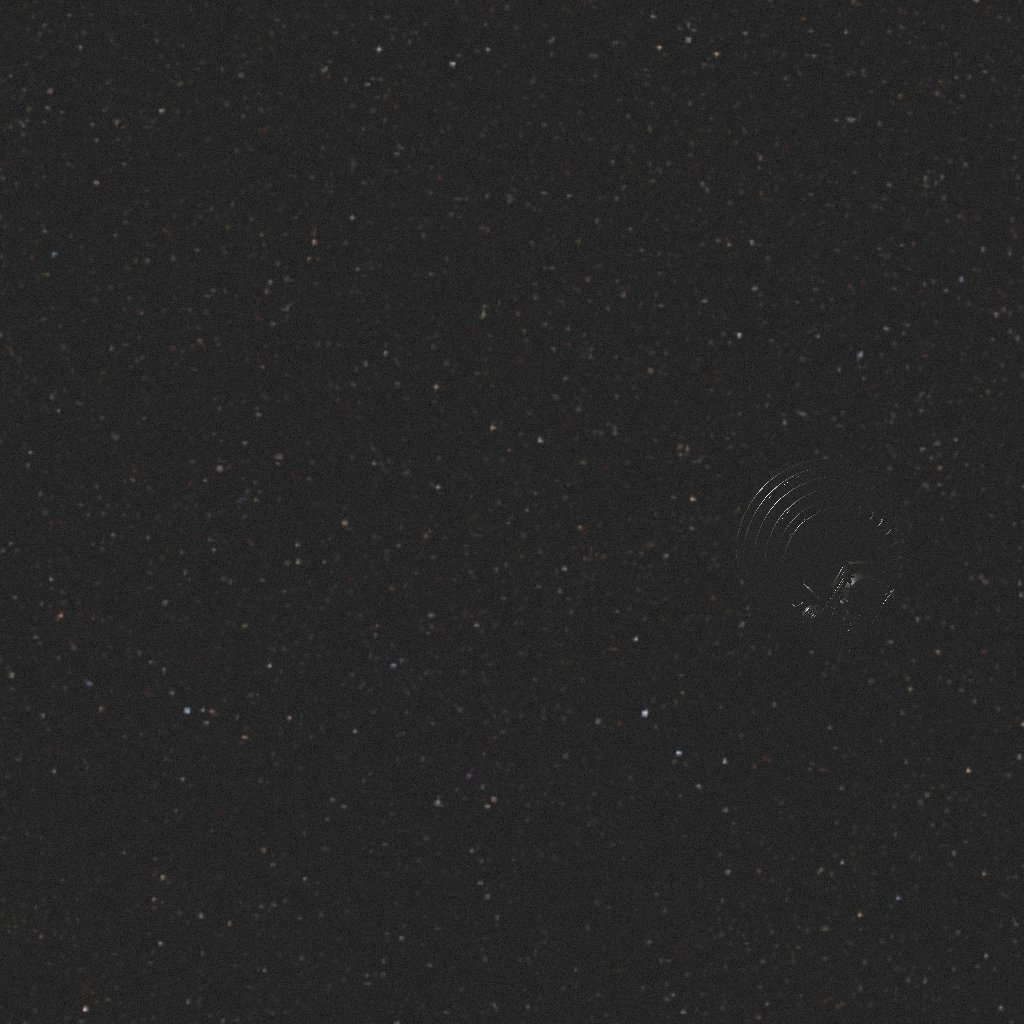debris: (736, 459, 904, 653)
